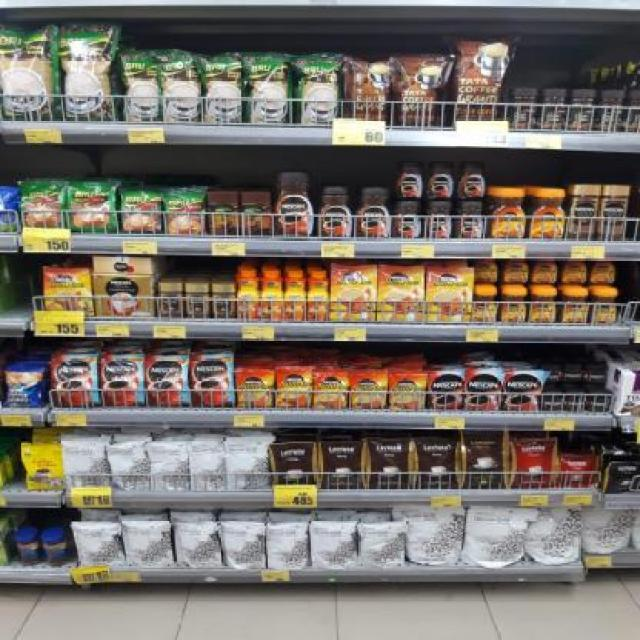Coffee: (274, 172, 314, 235), (376, 267, 422, 321), (426, 268, 472, 322), (144, 356, 190, 406), (333, 266, 375, 320), (190, 356, 235, 406), (44, 269, 91, 316), (53, 357, 98, 405), (101, 356, 144, 404), (530, 189, 568, 240), (488, 188, 526, 238), (356, 186, 390, 238), (570, 184, 601, 240), (318, 187, 353, 236), (504, 372, 541, 412), (427, 372, 464, 412), (465, 371, 501, 412), (601, 186, 627, 240), (277, 368, 311, 407), (315, 371, 350, 407), (237, 371, 272, 406), (390, 374, 424, 410), (352, 374, 386, 409), (236, 271, 259, 320), (306, 271, 329, 320), (393, 200, 422, 238), (395, 160, 423, 198), (262, 270, 282, 320), (428, 161, 454, 199), (159, 282, 184, 320), (458, 162, 484, 198), (458, 202, 484, 238), (285, 271, 304, 320), (426, 202, 452, 236), (530, 288, 556, 322), (212, 284, 236, 320), (186, 284, 210, 318), (561, 289, 585, 323), (502, 288, 526, 321), (594, 290, 617, 324), (474, 288, 496, 323), (561, 260, 587, 285), (591, 258, 615, 284), (531, 260, 557, 284), (502, 261, 528, 284), (473, 260, 498, 282), (586, 366, 606, 384), (564, 365, 582, 383), (543, 393, 560, 410), (566, 394, 584, 410), (588, 396, 608, 410), (545, 368, 560, 383)
